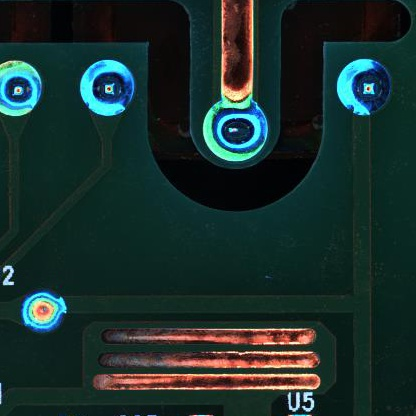spot: (204, 99, 269, 163), (335, 57, 395, 117), (78, 59, 137, 118), (1, 59, 45, 119), (20, 289, 63, 336)
